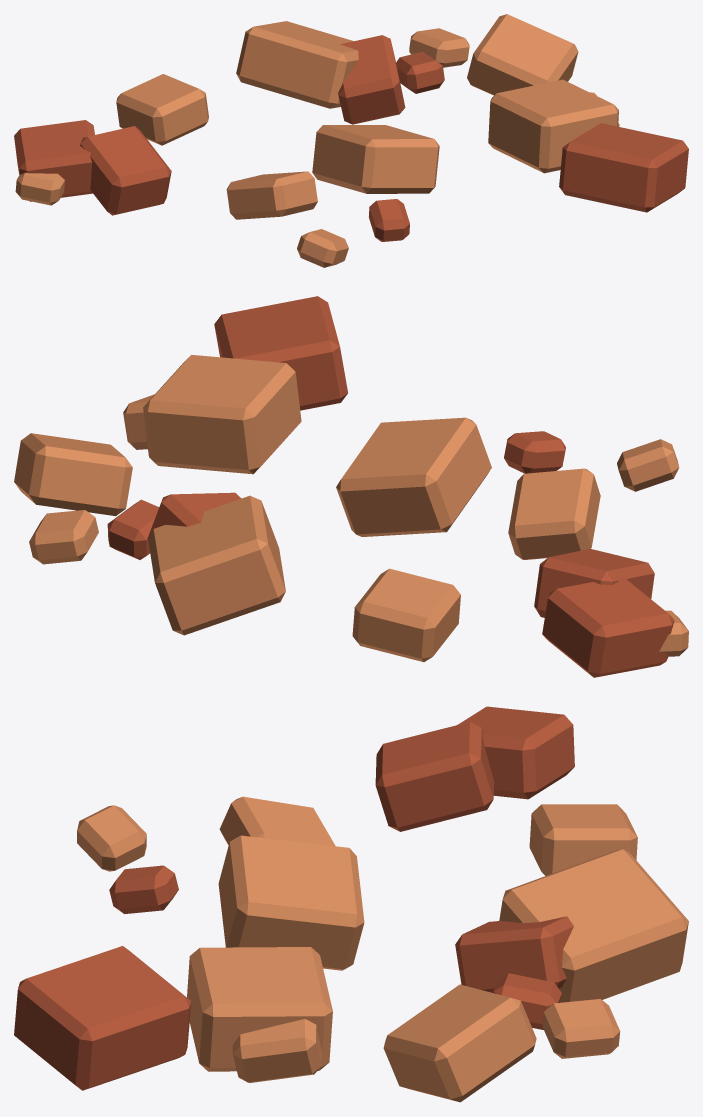
File: Rubble.fbx
The picture shows the model from 3 angles, top to bottom: view 1: azimuth 30°, elevation 25°; view 2: azimuth 150°, elevation 25°; view 3: azimuth 270°, elevation 25°; orthographic projection. The views are drawn at different scales.
Parts seen in each view (by area): view 1: Rubble; view 2: Rubble; view 3: Rubble.
Boxes of the visible parts, x1,y1,x2,y2 form: Rubble: [14, 14, 688, 267]; Rubble: [14, 296, 688, 677]; Rubble: [14, 706, 688, 1102].
Size of the model in its own units: 3.51 by 0.4984 by 2.83.
